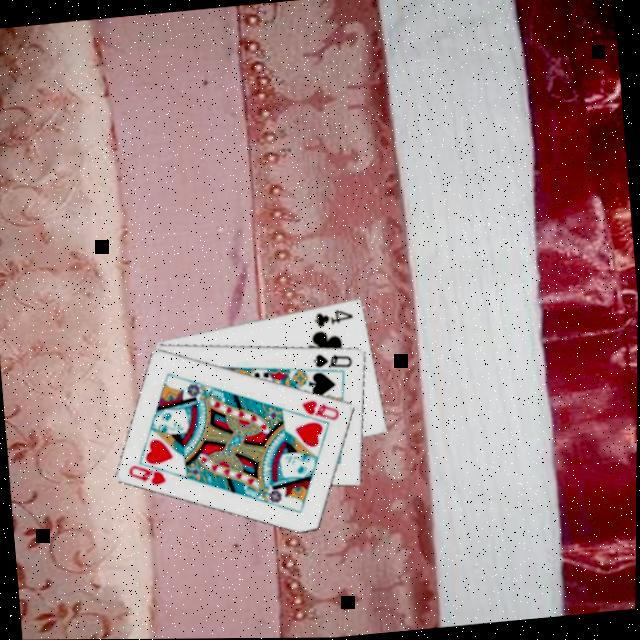4C: (312, 302, 358, 328)
QH: (128, 452, 180, 488), (300, 392, 344, 424)
QS: (312, 345, 358, 371)
